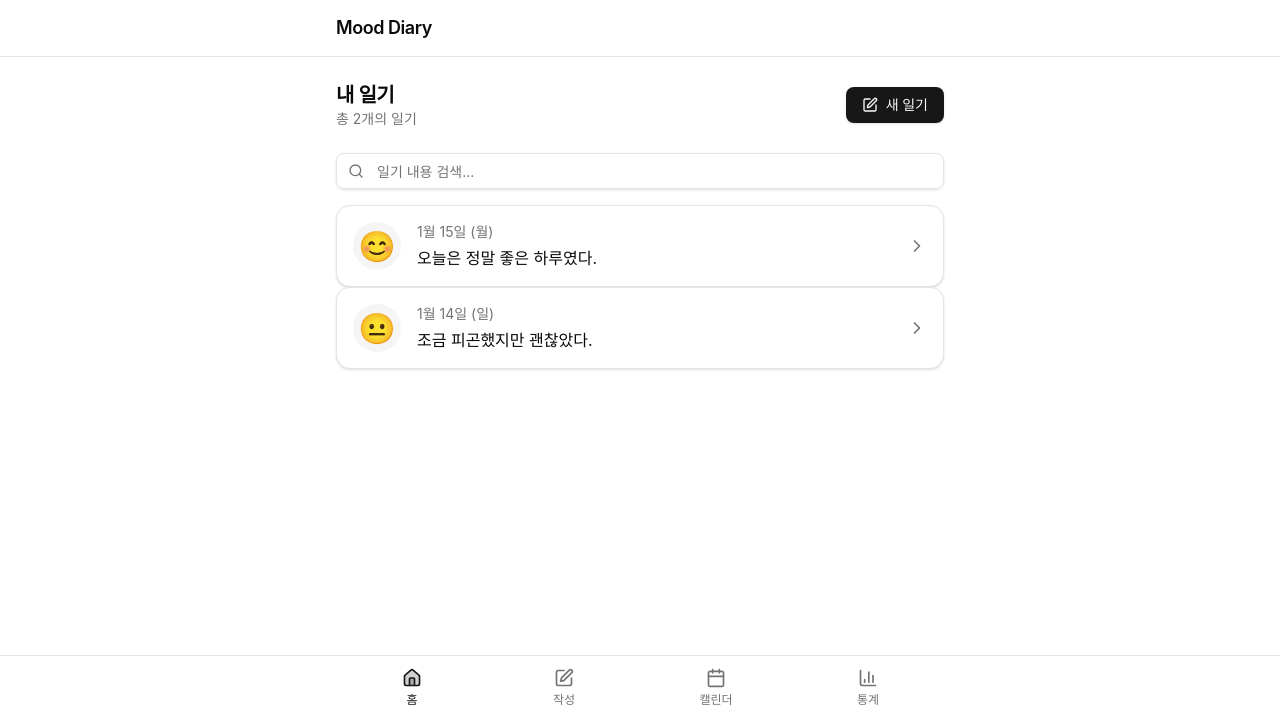
Test case: HomePage (TC-005) › TC-009: 일기 검색 › 검색어 삭제 버튼이 동작한다
Type "좋은" into the field with placeholder "일기 내용 검색..." at x=640, y=171, box [336,153,944,189]
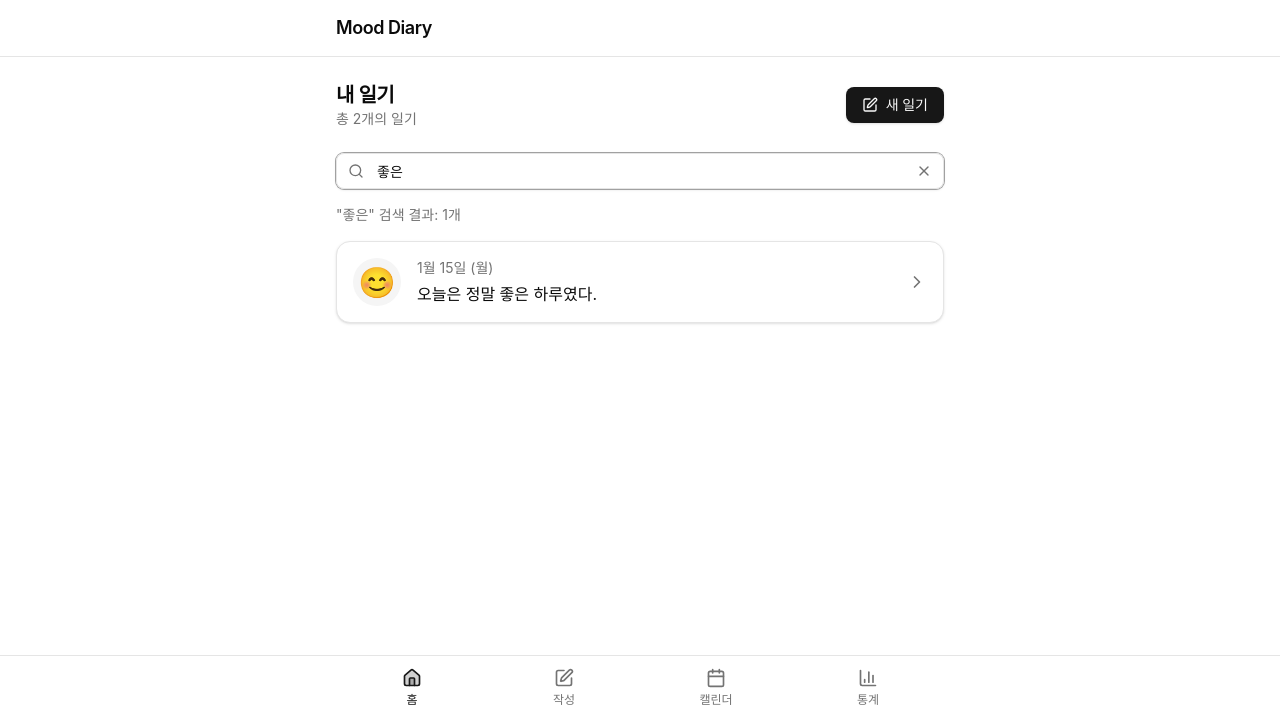
#  X 버튼 클릭
Click the button at x=924, y=171, box [916,163,932,179]
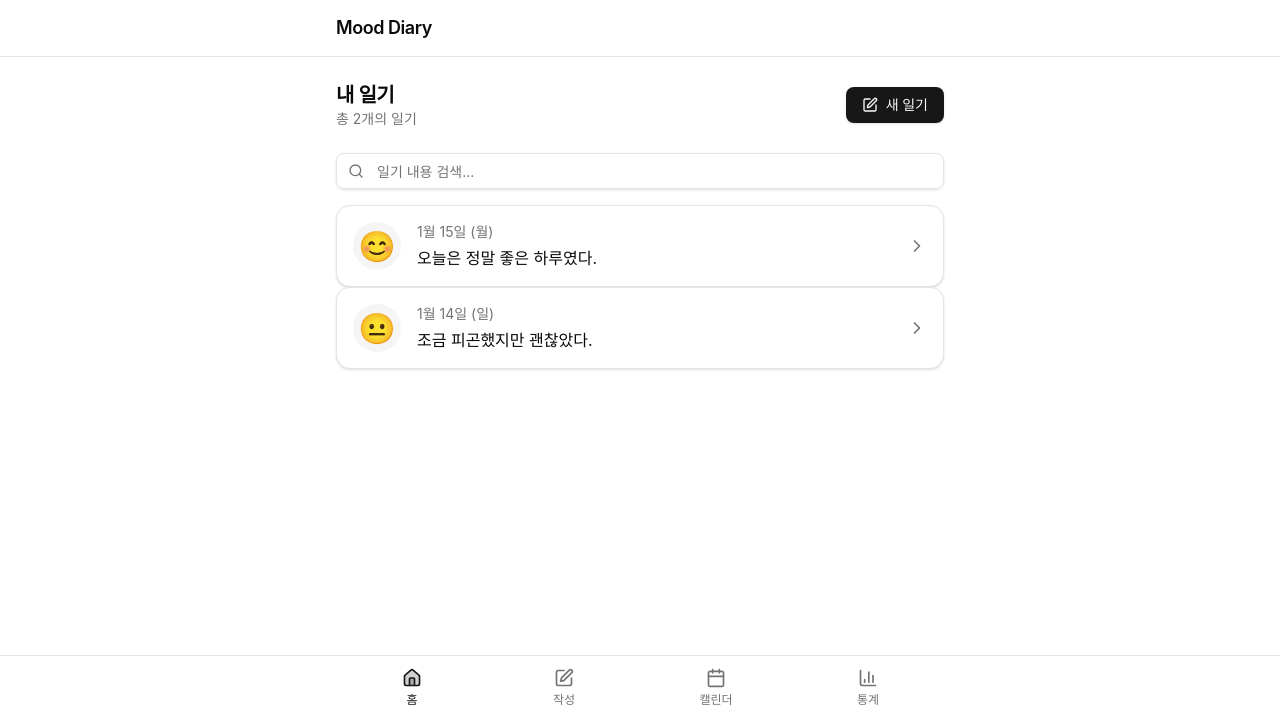
Expected: the text "오늘은 정말 좋은 하루였다." is shown, [417,248,597,268]
Result: the field with placeholder "일기 내용 검색..." is empty at [336,153,944,189]
Result: the text "조금 피곤했지만 괜찮았다." is shown at [417,330,592,350]
